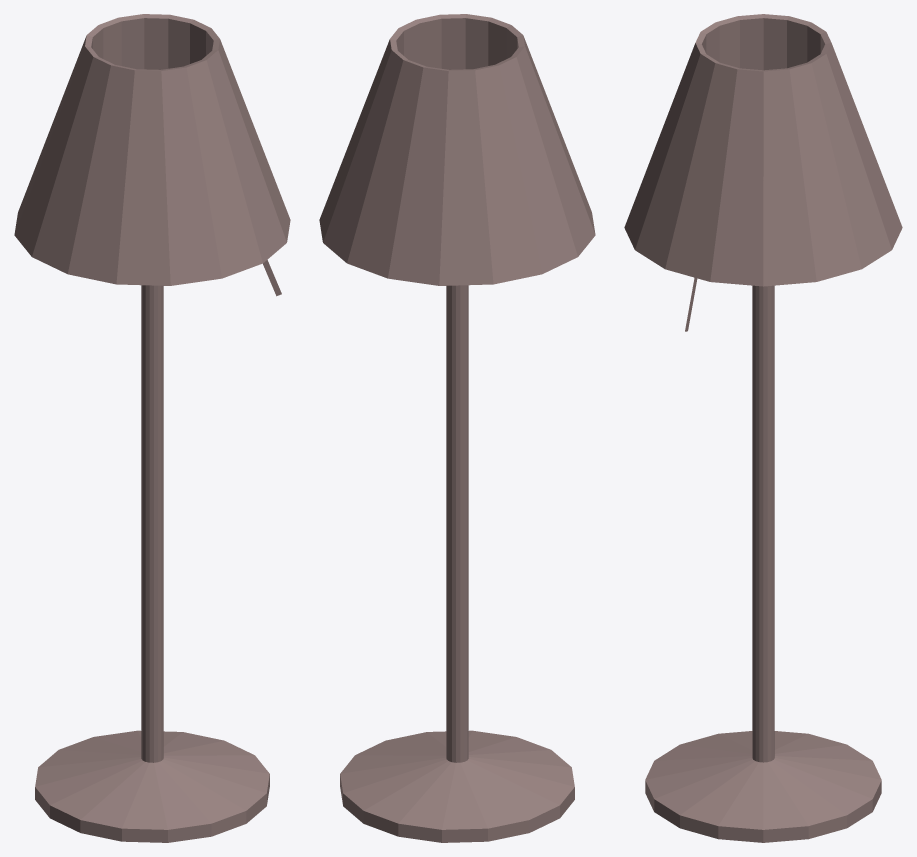
The model's file is StaLamp_2.fbx.
3 views of the same model, side by side, from view 1: azimuth 30°, elevation 25°; view 2: azimuth 150°, elevation 25°; view 3: azimuth 270°, elevation 25° (orthographic).
Parts seen in each view (by area): view 1: Cylinder; view 2: Cylinder; view 3: Cylinder.
Part boxes in pixels (x1=…): Cylinder: x1=14, y1=14, x2=290, y2=842; Cylinder: x1=319, y1=14, x2=595, y2=842; Cylinder: x1=624, y1=14, x2=902, y2=842.
Size of the model in its own units: 235 by 700 by 235.
